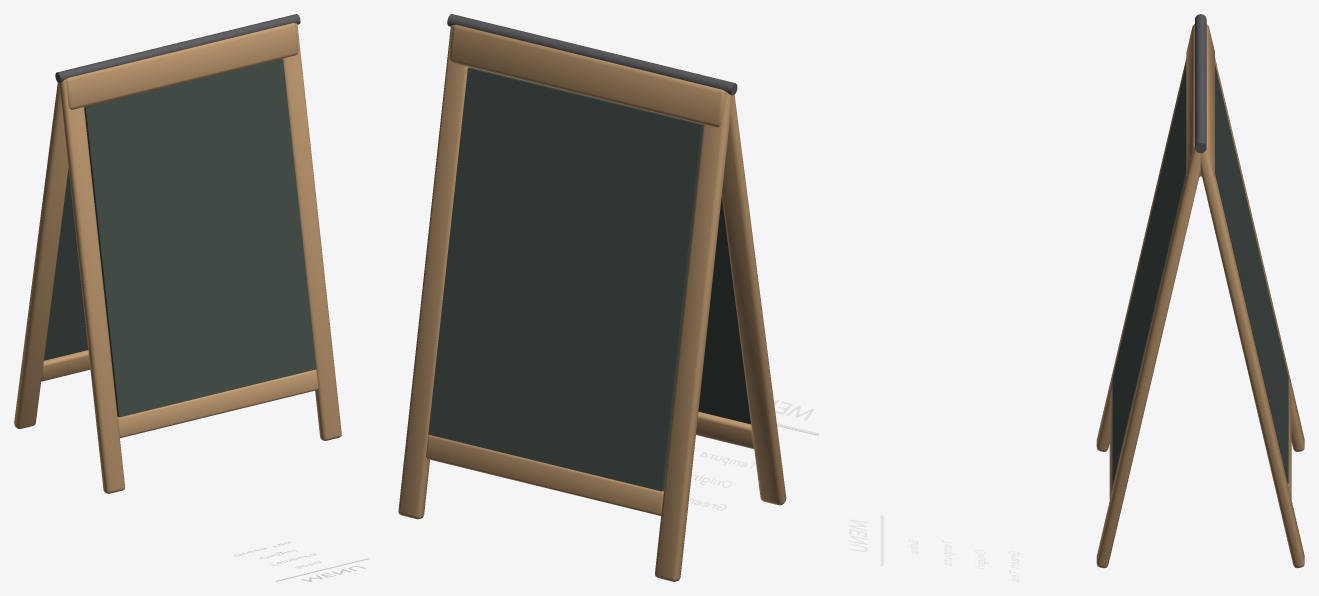
The model's file is Prop_MenuBoard.fbx.
The picture shows the model from 3 angles, left to right: view 1: azimuth 30°, elevation 25°; view 2: azimuth 150°, elevation 25°; view 3: azimuth 270°, elevation 25°; orthographic projection. The views are drawn at different scales.
Visible parts, largest first — view 1: MenuBoard_Front, MenuBoard_Back, MenuBoard_Hinge; view 2: MenuBoard_Back, MenuBoard_Front, MenuBoard_Hinge; view 3: MenuBoard_Back, MenuBoard_Front, MenuBoard_Hinge.
Boxes of the visible parts, x1,y1,x2,y2 form: MenuBoard_Front: (60, 23, 341, 493); MenuBoard_Back: (14, 82, 90, 428); MenuBoard_Hinge: (55, 14, 300, 82); MenuBoard_Back: (398, 24, 732, 581); MenuBoard_Front: (696, 95, 786, 505); MenuBoard_Hinge: (447, 14, 737, 95); MenuBoard_Back: (1200, 24, 1304, 568); MenuBoard_Front: (1096, 23, 1200, 568); MenuBoard_Hinge: (1195, 14, 1206, 153).
Bounding box in the file's own units: 0.62 × 1.1 × 0.9294.
